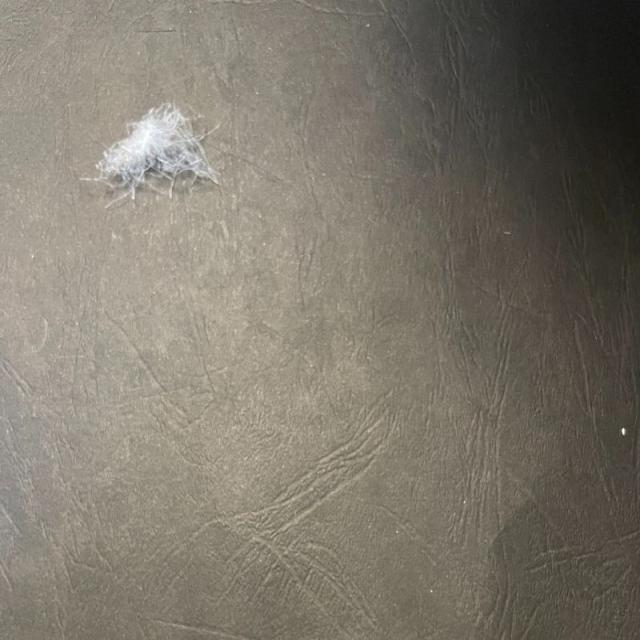feather: (90, 97, 216, 209)
